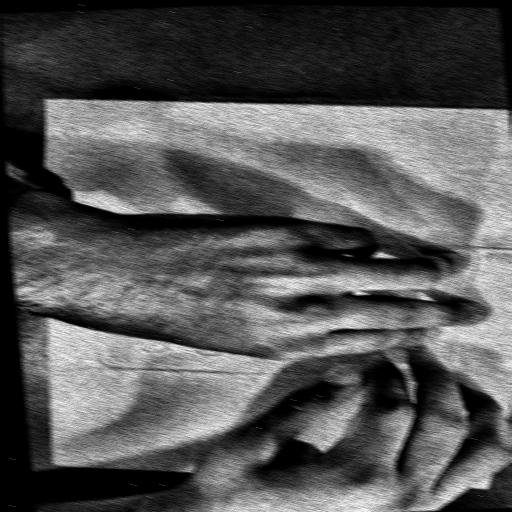bottom_left: (37, 94, 52, 104)
bottom_right: (48, 461, 61, 468)
mobile: (86, 224, 512, 391)
top_right: (482, 485, 492, 491)
